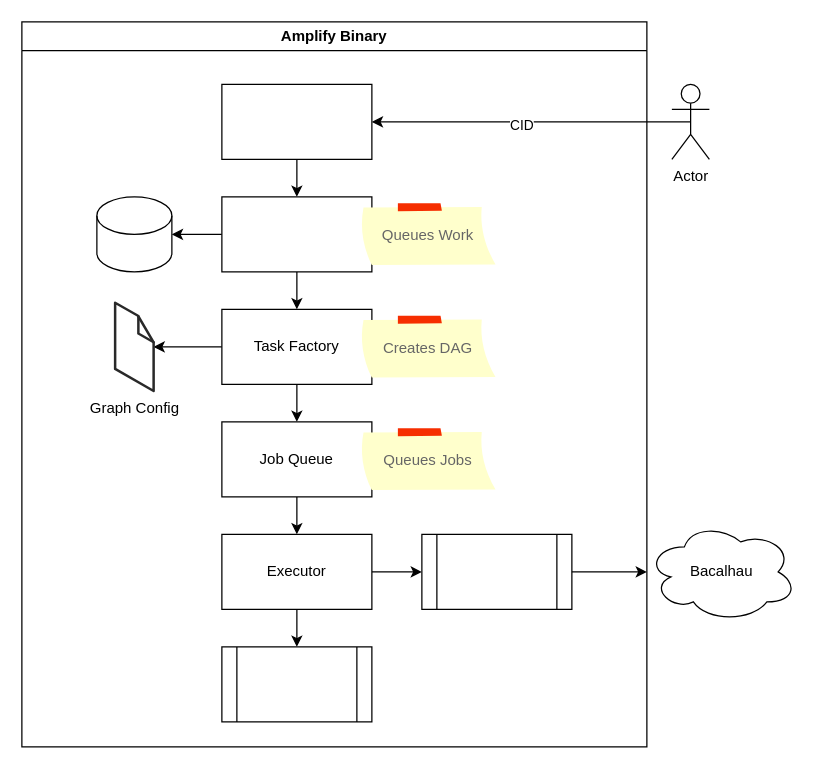
The diagram is 819 pixels wide and 769 high, and some of its shapes have lost their labels. The shapes that lost their labels are listed below. From the top down, each one's centre as x and y in pixels, then its label:
At point 296,121: "API Server".
At point 134,234: "In Mem".
At point 296,234: "Queue Repository".
At point 496,571: "Bacalhau Job".
At point 296,684: "Internal Job".
